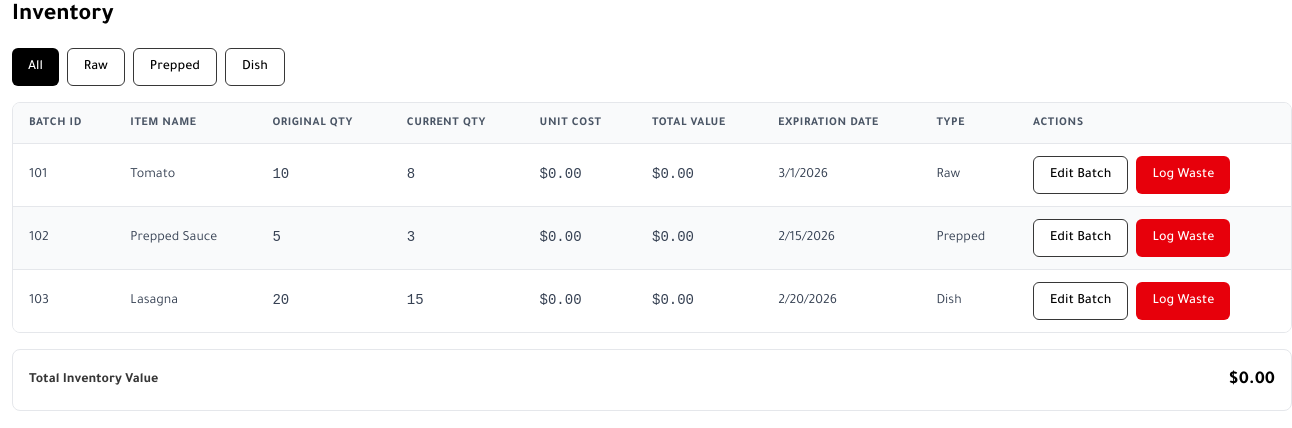
Scenario: InventoryPage › filters to show only Raw items when Raw filter is clicked
The width and height of the screenshot is (1292, 428).
Expected: the text "Tomato" is shown, [114,144,256,206]
Click the button "Raw": (96, 67) [67,48,125,86]
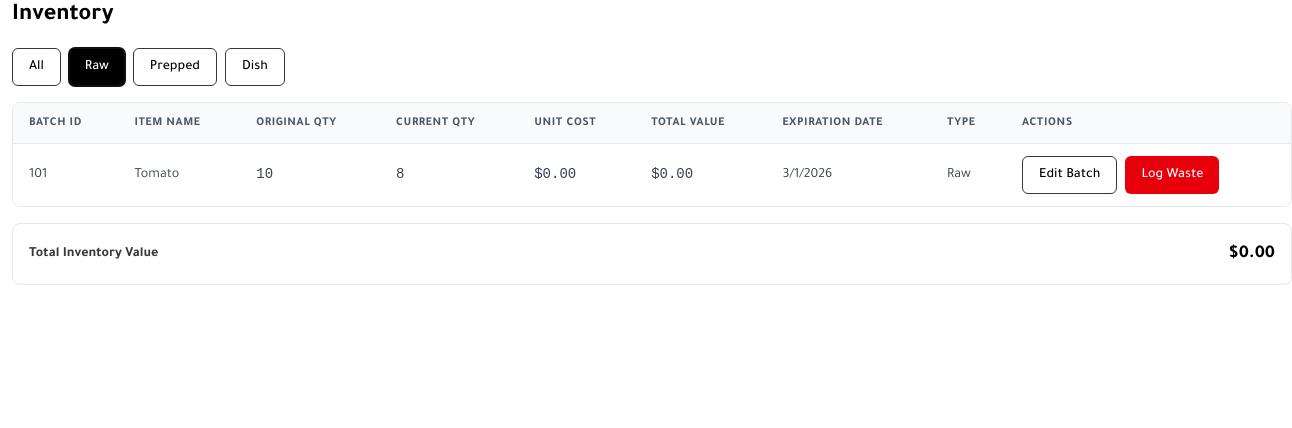
Expected: the text "Tomato" is shown, [118,144,240,206]
Expected: the text "Prepped Sauce" is gone
